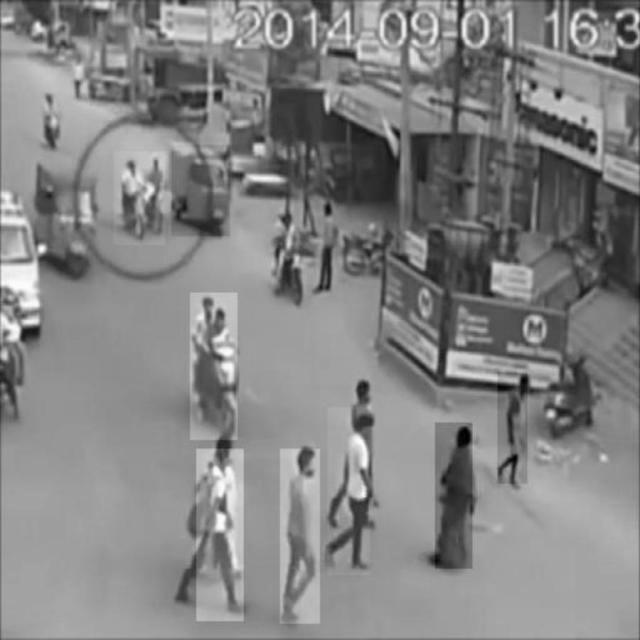accident: (114, 152, 165, 245)
person: (196, 449, 243, 621), (328, 407, 370, 575), (281, 449, 321, 624), (435, 423, 472, 569), (498, 373, 528, 484)
vehicle: (38, 155, 96, 276), (191, 293, 238, 440), (171, 145, 229, 236)
